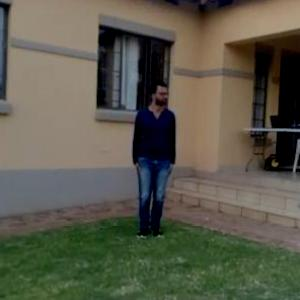follow: (130, 73, 182, 249)
